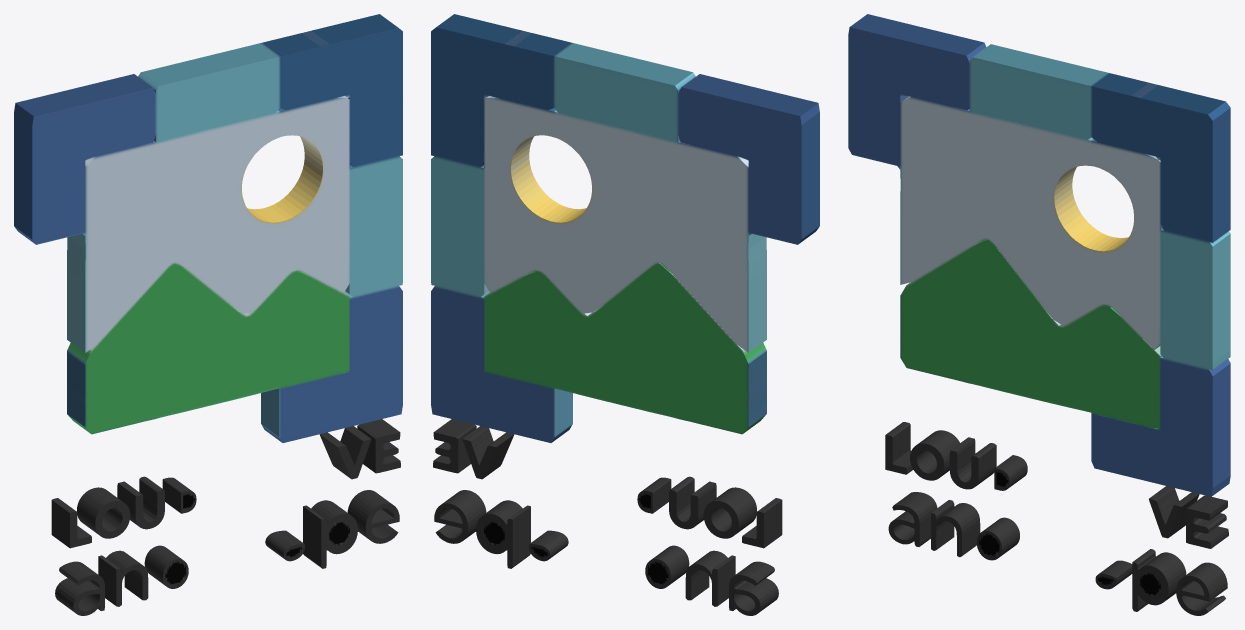
File: cloud-native-landscape.glb
3 renders of one model, left to right at view 1: azimuth 30°, elevation 25°; view 2: azimuth 150°, elevation 25°; view 3: azimuth 330°, elevation 25°, orthographic.
Parts seen in each view (by area): view 1: Curve; view 2: Curve; view 3: Curve.
Boxes of the visible parts, x1,y1,x2,y2 form: Curve: (14,14,402,615); Curve: (431,14,819,615); Curve: (848,14,1230,615).
Bounding box in the file's own units: 0.0584 × 0.0788 × 0.005.
1 material, 1 textured.
